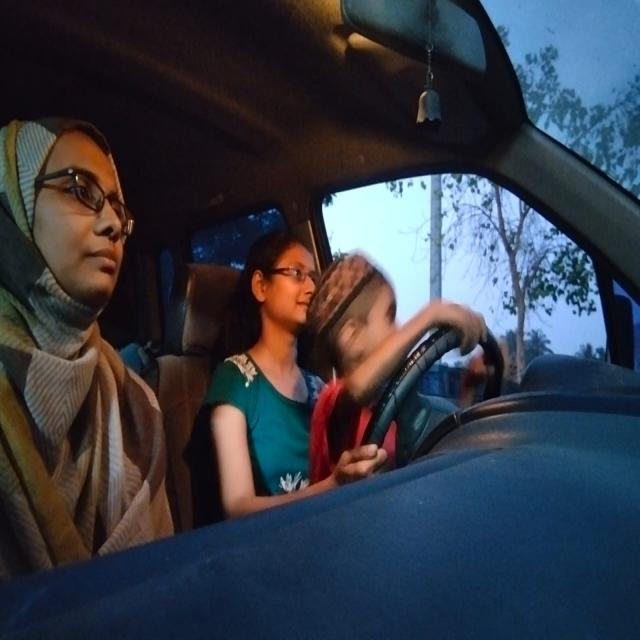child: (312, 250, 408, 395)
person: (3, 101, 138, 356), (249, 226, 321, 352)
